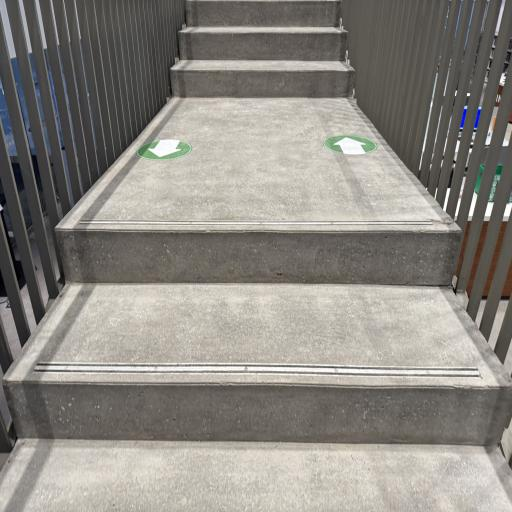Stairs: (0, 0, 512, 512), (56, 0, 460, 286), (4, 283, 512, 445), (0, 439, 512, 512), (170, 0, 354, 98), (186, 0, 340, 27)
